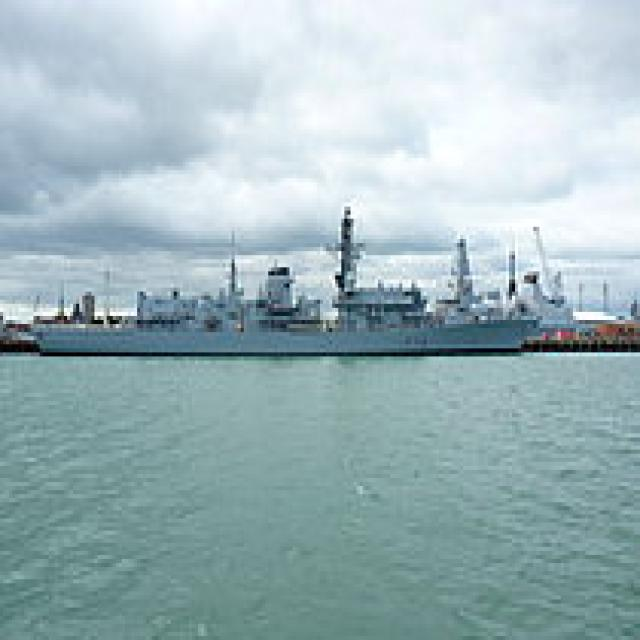Warship: (22, 198, 540, 356)
